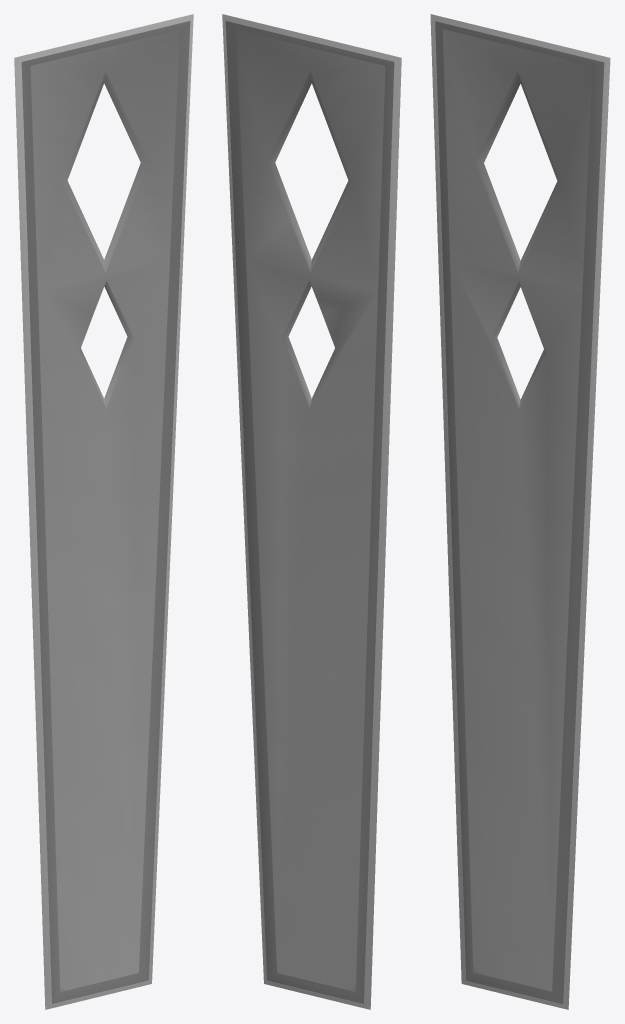
Rendered from stone_blade (21).glb.
3 views of the same model, side by side, from view 1: azimuth 30°, elevation 25°; view 2: azimuth 150°, elevation 25°; view 3: azimuth 330°, elevation 25° (orthographic).
Visible parts, largest first — view 1: stone_blade_unscratched.041; view 2: stone_blade_unscratched.041; view 3: stone_blade_unscratched.041.
Part boxes in pixels (bbox=[...]): stone_blade_unscratched.041: bbox=[14, 14, 193, 1009]; stone_blade_unscratched.041: bbox=[222, 14, 401, 1009]; stone_blade_unscratched.041: bbox=[430, 14, 610, 1009].
Size of the model in its own units: 2.19 by 11.21 by 0.0882.
1 material, 1 textured.
